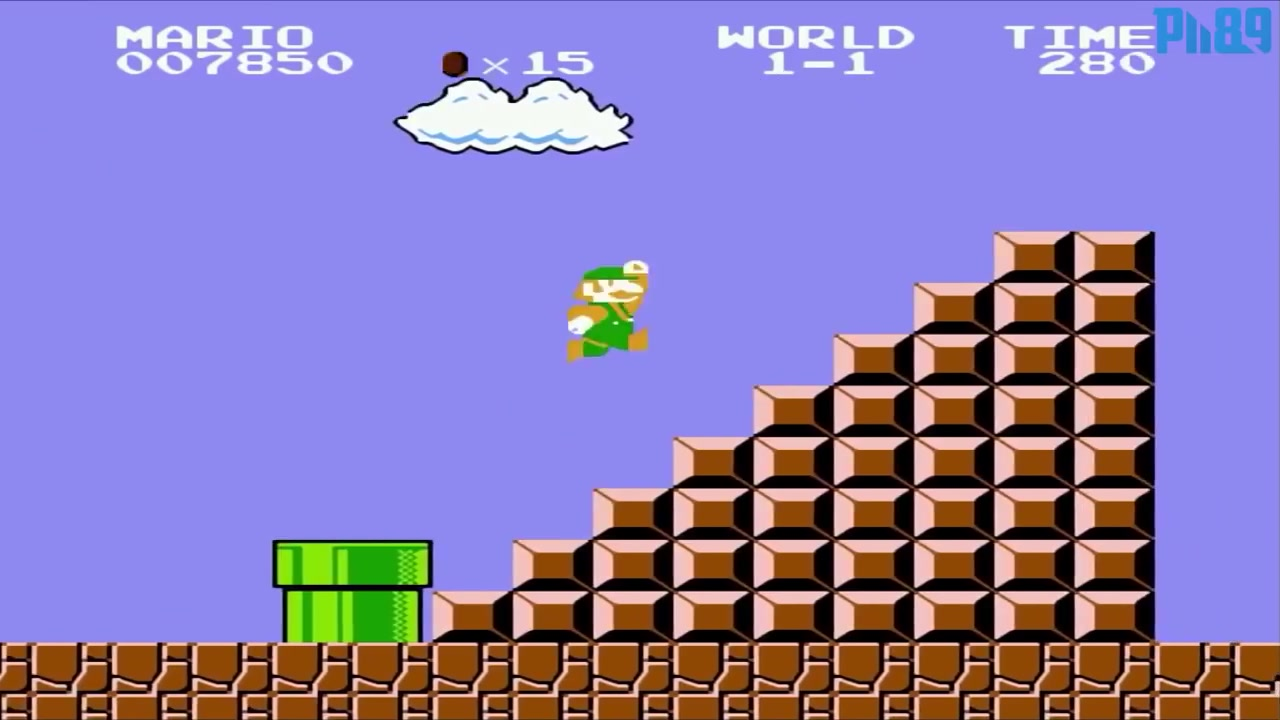mario: (558, 255, 657, 364)
